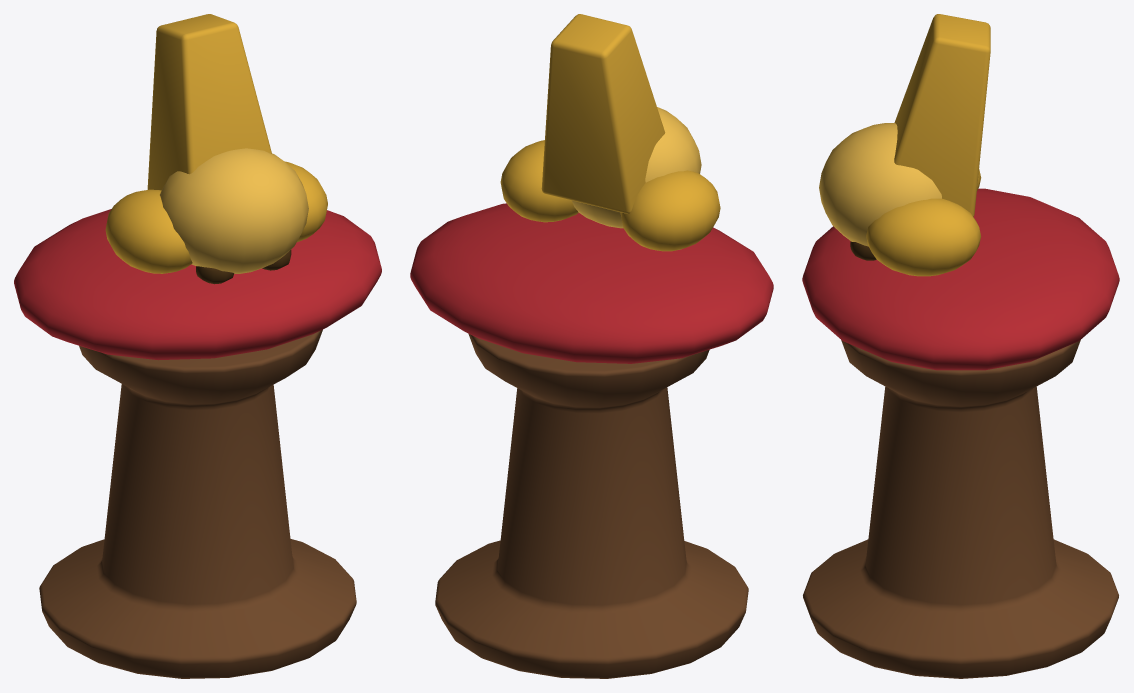
Rendered from brass_nose.glb.
3 renders of one model, left to right at view 1: azimuth 30°, elevation 25°; view 2: azimuth 150°, elevation 25°; view 3: azimuth 270°, elevation 25°, orthographic.
Parts seen in each view (by area): view 1: brass_nose; view 2: brass_nose; view 3: brass_nose.
Boxes of the visible parts, x1,y1,x2,y2 form: brass_nose: (14, 14, 381, 678); brass_nose: (410, 14, 773, 678); brass_nose: (802, 14, 1119, 678).
Bounding box in the file's own units: 0.7031 × 1.23 × 0.595.
